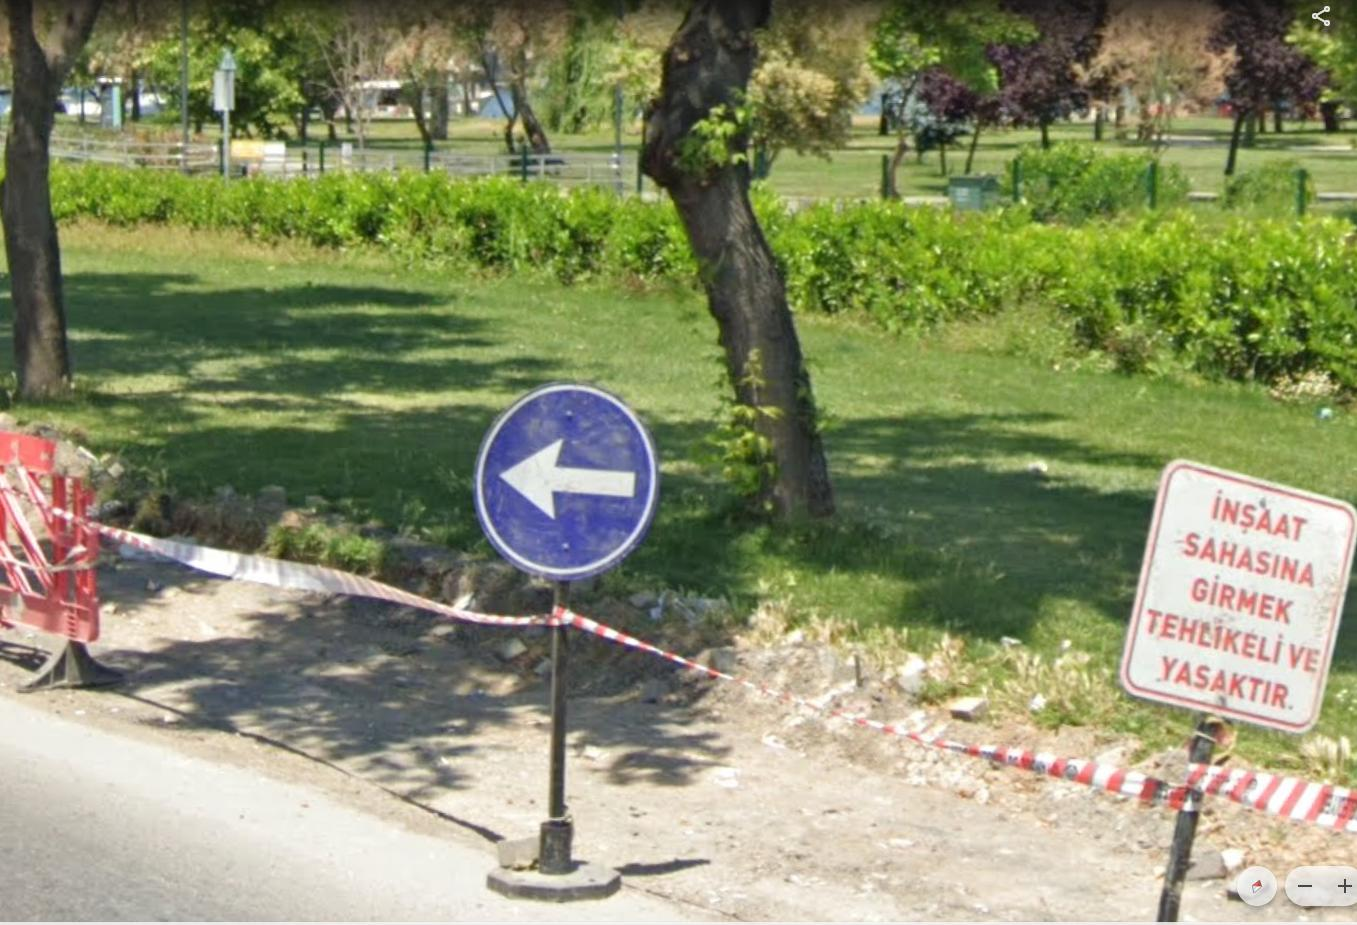turnleft: (484, 391, 658, 583)
